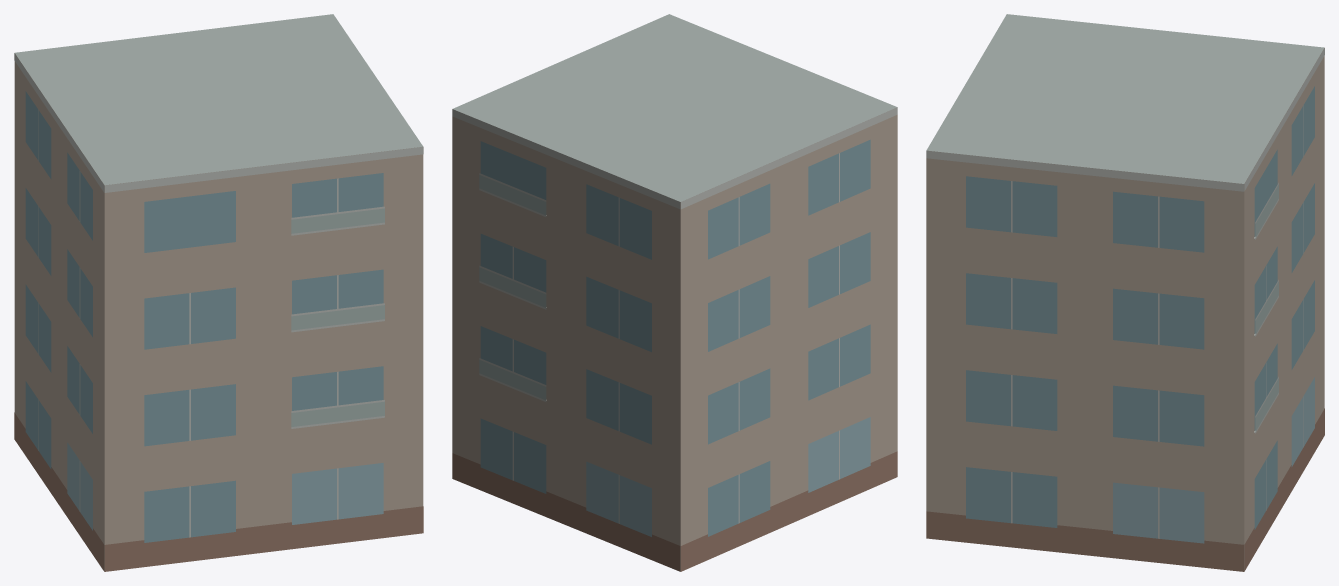
The model's file is residential-65ccb887-20d7-43b8-960f-9c1af904ac92.glb.
3 views of the same model, side by side, from view 1: azimuth 30°, elevation 25°; view 2: azimuth 150°, elevation 25°; view 3: azimuth 270°, elevation 25° (orthographic). The views are drawn at different scales.
Parts seen in each view (by area): view 1: residential-65ccb887-20d7-43b8-960f-9c1af904ac92.tmp; view 2: residential-65ccb887-20d7-43b8-960f-9c1af904ac92.tmp; view 3: residential-65ccb887-20d7-43b8-960f-9c1af904ac92.tmp.
Boxes of the visible parts, x1=… form: residential-65ccb887-20d7-43b8-960f-9c1af904ac92.tmp: x1=14, y1=14, x2=423, y2=571; residential-65ccb887-20d7-43b8-960f-9c1af904ac92.tmp: x1=452, y1=14, x2=897, y2=571; residential-65ccb887-20d7-43b8-960f-9c1af904ac92.tmp: x1=926, y1=14, x2=1324, y2=571.
Bounding box in the file's own units: 11.48 × 12.2 × 11.37.
